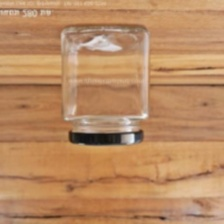glass: (52, 16, 169, 151)
